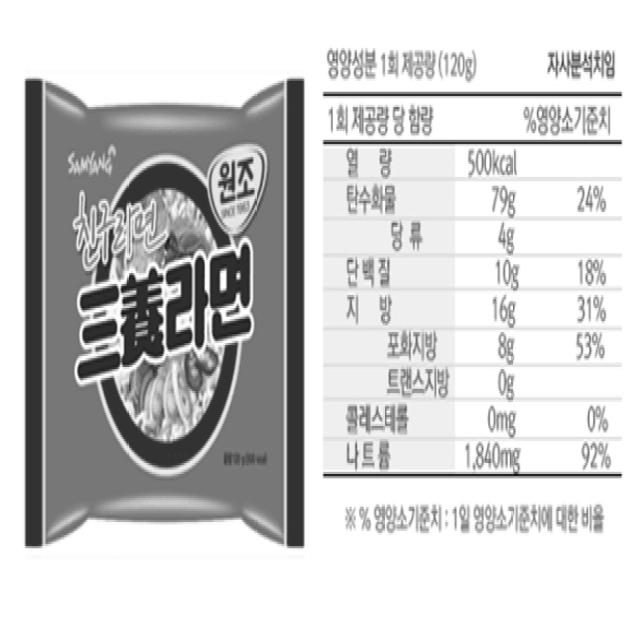Nutrition Label: (315, 19, 639, 558)
